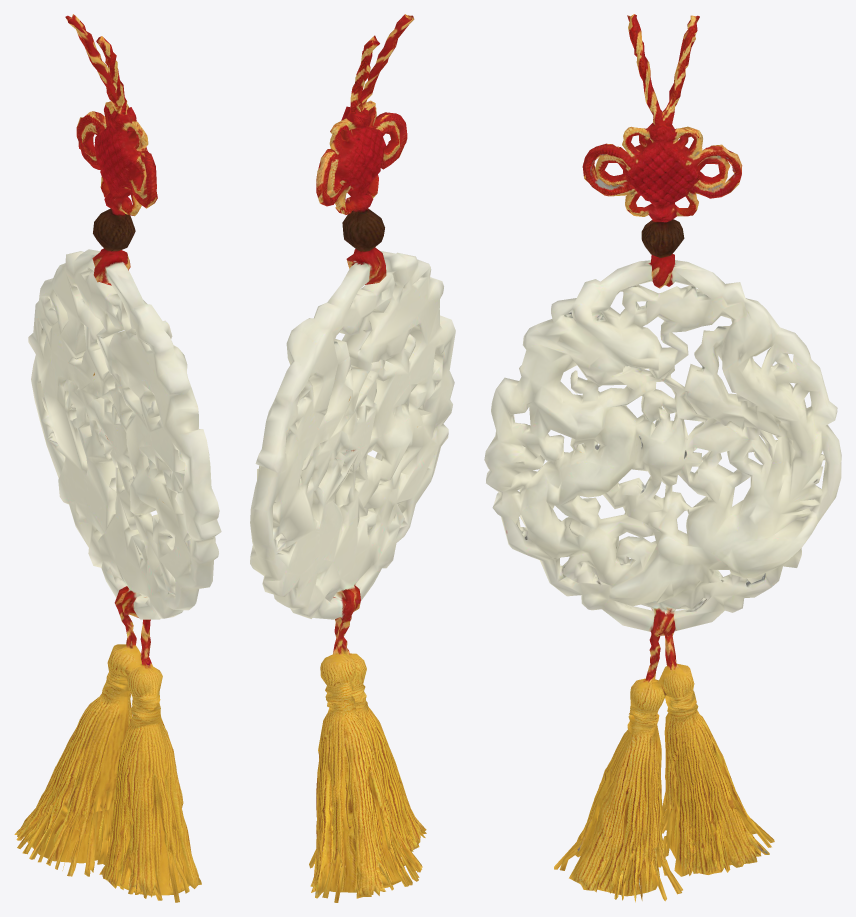
The model's file is luxury_jade_pendant.tpl_f2_medium.glb.
3 views of the same model, side by side, from view 1: azimuth 30°, elevation 25°; view 2: azimuth 150°, elevation 25°; view 3: azimuth 270°, elevation 25° (orthographic).
Parts seen in each view (by area): view 1: NormalizedProp; view 2: NormalizedProp; view 3: NormalizedProp.
Boxes of the visible parts, x1,y1,x2,y2 form: NormalizedProp: [14, 14, 221, 902]; NormalizedProp: [250, 14, 455, 902]; NormalizedProp: [484, 14, 841, 902].
Bounding box in the file's own units: 0.00759 × 0.0476 × 0.0182.
Materials: 1 (1 with a texture image).
